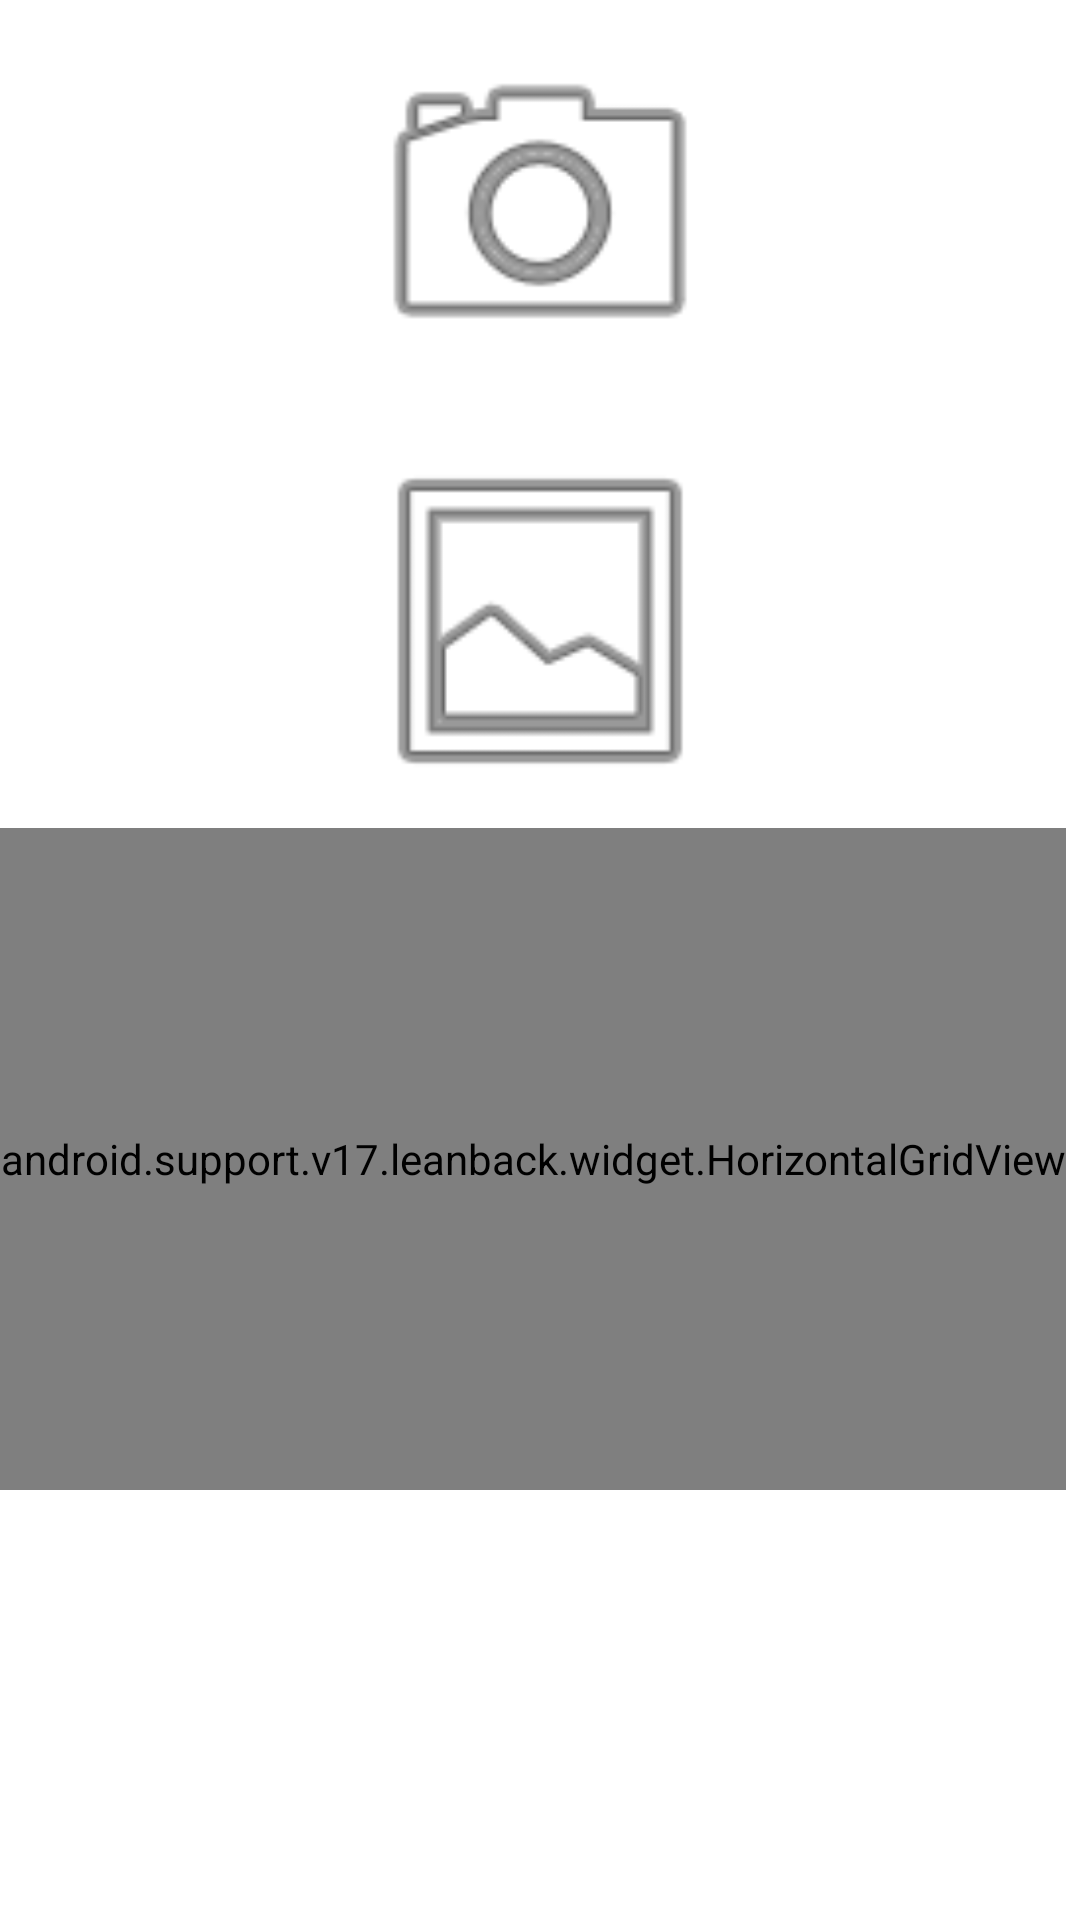

Icon click points for this 1080 x 1920 phone screenshot, format (x=x, y=y):
camera: (x=540, y=201)
gallery: (x=540, y=621)
